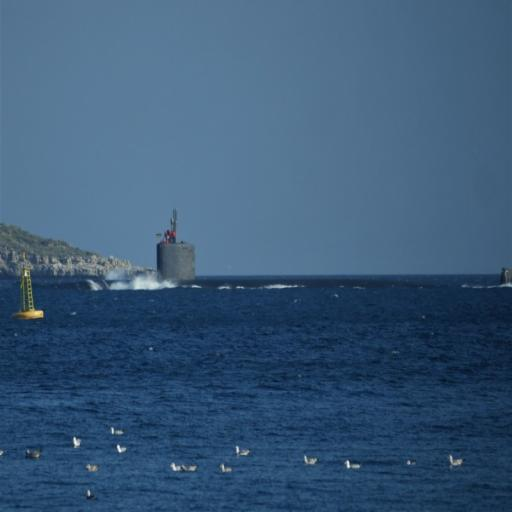submarine: (132, 244, 200, 287)
